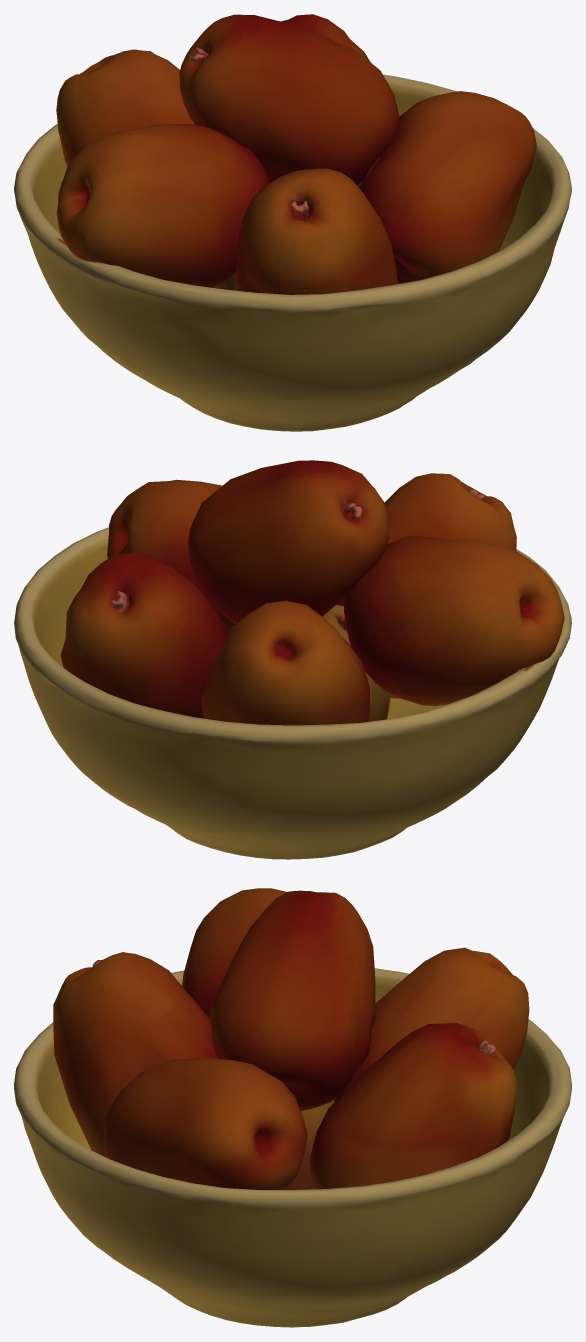
Rendered from r33-dates.glb.
3 views of the same model, one above another, from view 1: azimuth 30°, elevation 25°; view 2: azimuth 150°, elevation 25°; view 3: azimuth 270°, elevation 25° (orthographic).
Parts seen in each view (by area): view 1: tripo_node_1396ba71-72e8-4d15-88d1-85d762ea316c; view 2: tripo_node_1396ba71-72e8-4d15-88d1-85d762ea316c; view 3: tripo_node_1396ba71-72e8-4d15-88d1-85d762ea316c.
Boxes of the visible parts, x1,y1,x2,y2 form: tripo_node_1396ba71-72e8-4d15-88d1-85d762ea316c: (14,14,571,431); tripo_node_1396ba71-72e8-4d15-88d1-85d762ea316c: (14,460,571,859); tripo_node_1396ba71-72e8-4d15-88d1-85d762ea316c: (14,888,571,1327).
Bounding box in the file's own units: 0.998 × 0.709 × 0.998.
1 material, 1 textured.
